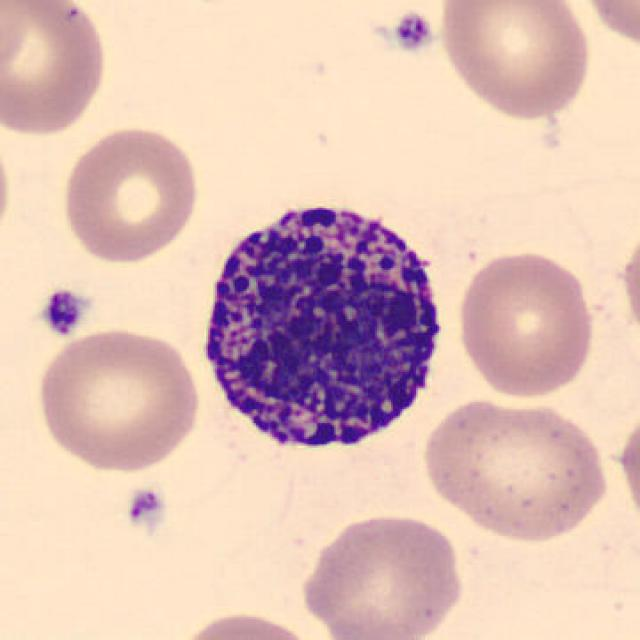Basophil: (188, 184, 458, 466)
Platelets: (37, 286, 89, 338), (390, 7, 436, 56), (123, 483, 167, 533)
RBC: (416, 393, 613, 547), (28, 323, 205, 476), (452, 245, 599, 402), (295, 508, 468, 640), (57, 122, 204, 266), (435, 0, 595, 123), (0, 2, 112, 139), (168, 606, 325, 640), (574, 0, 640, 55), (615, 402, 640, 538), (617, 212, 640, 348), (0, 2, 32, 79), (0, 120, 14, 257)
